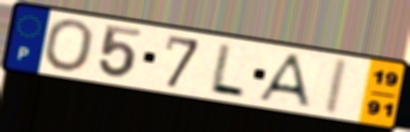5: (97, 23, 146, 81)
7: (163, 33, 203, 90)
A: (254, 51, 314, 111)
I: (320, 56, 352, 118)
L: (206, 41, 248, 100)
O: (41, 18, 97, 74)
